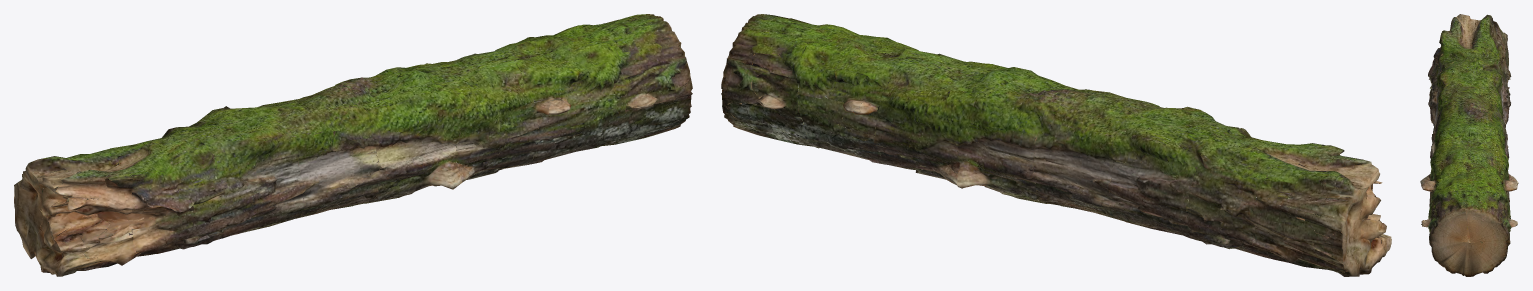
The model's file is log_fallen.glb.
3 views of the same model, side by side, from view 1: azimuth 30°, elevation 25°; view 2: azimuth 150°, elevation 25°; view 3: azimuth 270°, elevation 25° (orthographic). The views are drawn at different scales.
Parts seen in each view (by area): view 1: log_fallen; view 2: log_fallen; view 3: log_fallen.
Boxes of the visible parts, box(x1,y1,x2,y2) form: log_fallen: box(14, 14, 692, 276); log_fallen: box(721, 14, 1391, 276); log_fallen: box(1420, 14, 1518, 276).
Size of the model in its own units: 3.2 by 0.5543 by 0.6683.
Materials: 1 (1 with a texture image).
